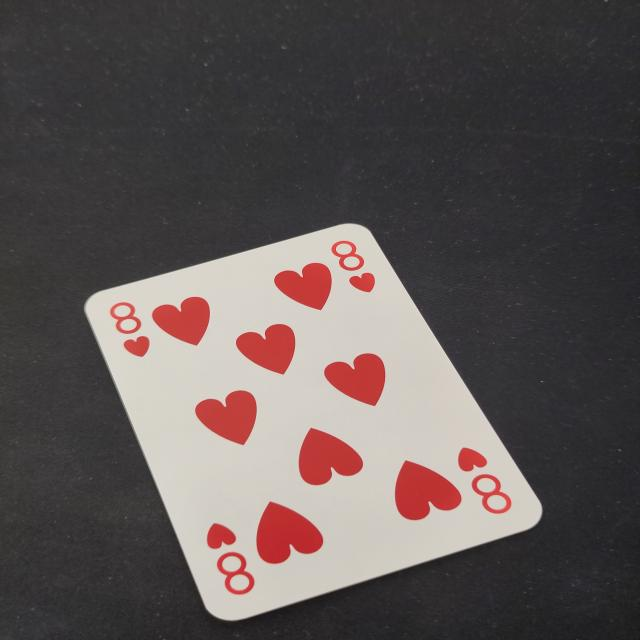8h: (452, 442, 517, 522), (199, 518, 262, 598), (326, 236, 384, 300), (105, 299, 158, 364)
